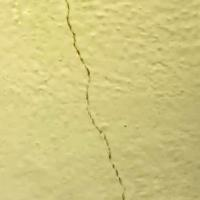crack: (50, 0, 151, 199)
